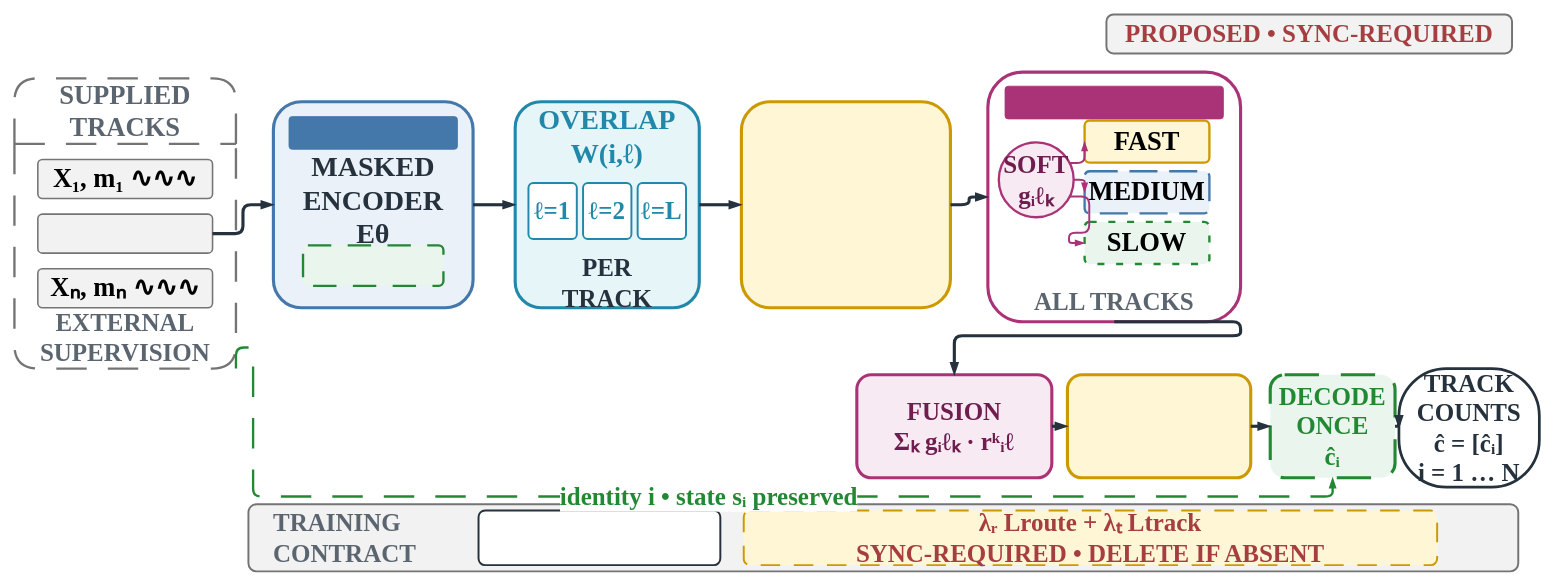
The diagram is 1555 pixels wide and 586 high, and some of its shapes have lost their labels. Each missing label, with the centre of its shape:
"MASKED ACF + FFT p̂(i,ℓ) • γ(i,ℓ) LOCAL TEMPO" belongs at point 845,204.
"NOLA RESPONSE Rᵢ(t)" belongs at point 1158,426.
"PAMS-TCC START" belongs at point 599,537.
"SHARED H(k)" belongs at point 1113,102.
"SHARED θ" belongs at point 372,132.
"STATE sᵢ" belongs at point 372,265.
"X₂, m₂ ∿∿∿" belongs at point 125,233.
